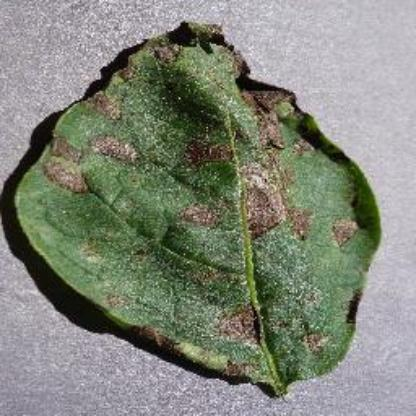Early-Blight: (11, 15, 410, 399)
